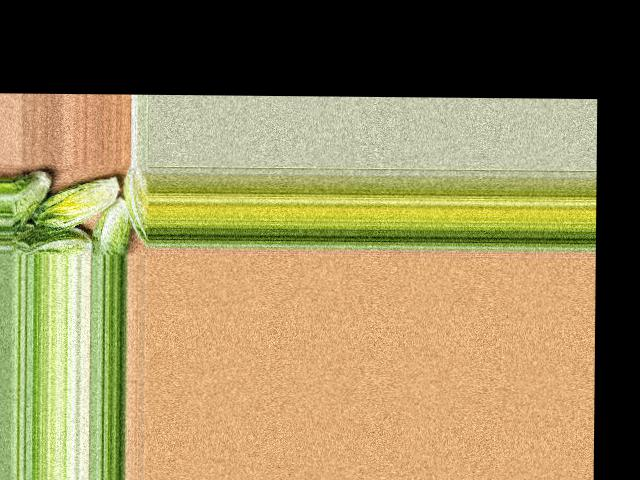lettuce: (121, 166, 150, 245)
